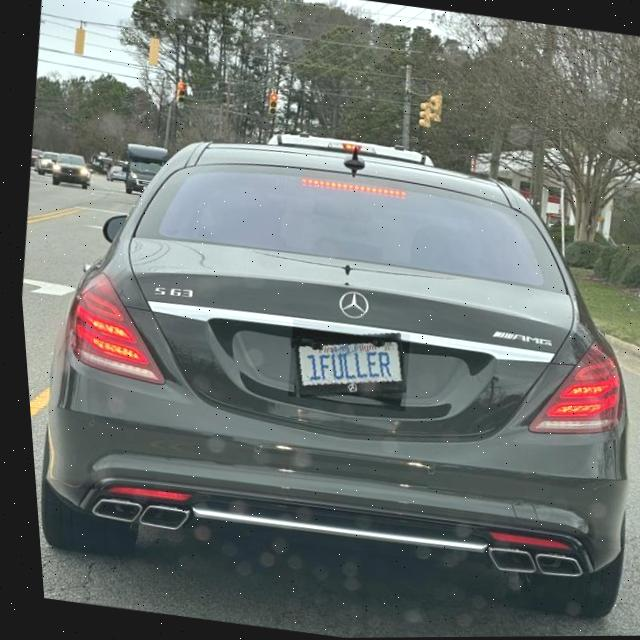LicensePlate: (286, 334, 400, 398)
